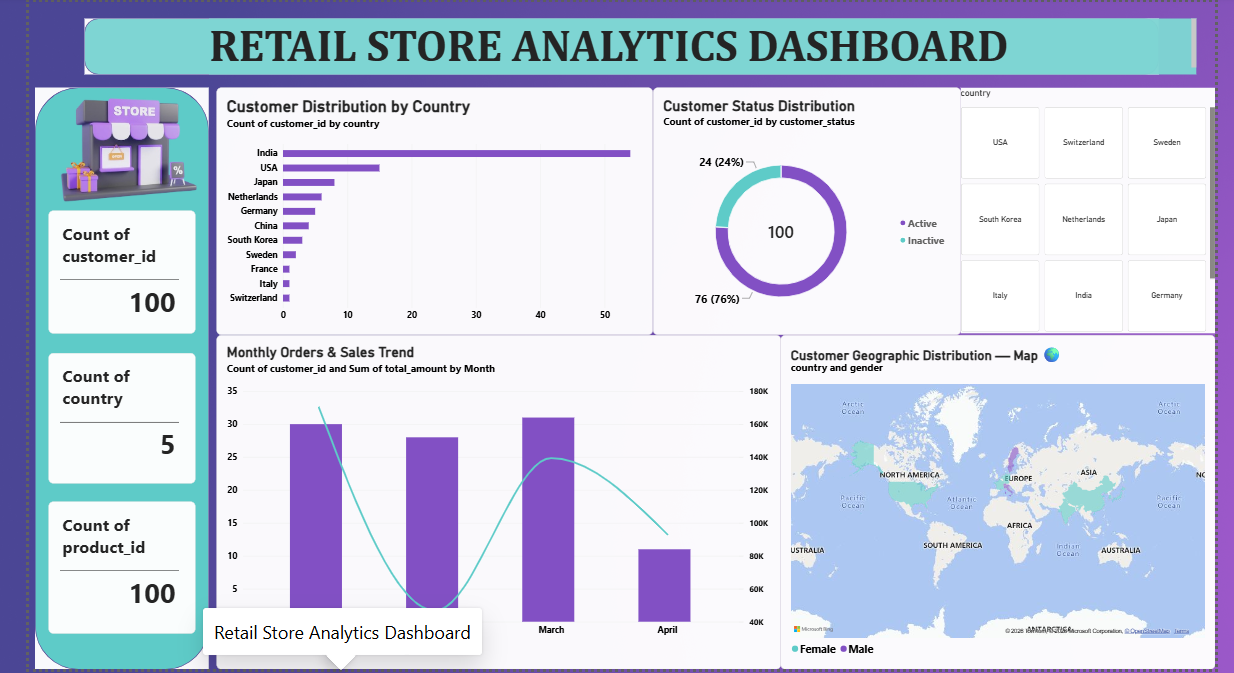

The dashboard page shown, as its layout file describes it:
{"tool":"powerbi","page":{"name":"Retail Store Analytics Dashboard","canvas":[1920,1080],"ordinal":0},"visuals":[{"type":"shape","box":[9.5,138.4,281.5,942.4],"z":0},{"type":"clusteredBarChart","title":"Customer Distribution by Country","fields":{"Category":["retail_store products.country"],"Y":["CountNonNull(retail_store products.customer_id)"]},"box":[303.6,138.4,706.8,400.8],"z":1000},{"type":"donutChart","title":"Customer Status Distribution","fields":{"Category":["retail_store customers.customer_status"],"Y":["CountNonNull(retail_store customers.customer_id)"]},"box":[1010.4,138.4,498.7,400.8],"z":2000},{"type":"lineClusteredColumnComboChart","title":"Monthly Orders & Sales Trend","fields":{"Category":["retail_store customers.signup_date.Variation.Date Hierarchy.Month"],"Y":["CountNonNull(retail_store customers.customer_id)"],"Y2":["Sum(retail_store orders.total_amount)"]},"box":[303,539.2,913.8,541.6],"z":3000},{"type":"filledMap","title":"Customer Geographic Distribution — Map 🌍","fields":{"Category":["retail_store products.country"],"Series":["retail_store customers.gender"]},"box":[1216.8,539.2,703.8,541.6],"z":4000},{"type":"shape","box":[90.7,26.2,1739.3,90.7],"z":5000},{"type":"textbox","box":[291.1,26.2,1598.6,90.7],"z":6000},{"type":"tableEx","fields":{"Values":["retail_store customers.customer_id"]},"box":[31.6,337.6,238,199.2],"z":7000},{"type":"tableEx","fields":{"Values":["retail_store customers.country"]},"box":[31.6,568.3,238,211.3],"z":8000},{"type":"tableEx","fields":{"Values":["CountNonNull(retail_store products.product_id)"]},"box":[31.6,808.8,238,213.7],"z":9000},{"type":"image","box":[9.7,97.2,298.7,267.2],"z":10000},{"type":"advancedSlicerVisual","fields":{"Values":["retail_store products.country"]},"box":[1508.3,138.4,412.9,398.3],"z":11000}]}

Visuals, with their boxes on the page's 1920x1080 design canvas (x1, y1, x2, y2). These are canvas units, not pixel positions in the 1234x673 screenshot, which may show the page scaled, cropped or inside an application window:
shape: BBox(10, 138, 291, 1081)
"Customer Distribution by Country" clusteredBarChart: BBox(304, 138, 1010, 539)
"Customer Status Distribution" donutChart: BBox(1010, 138, 1509, 539)
"Monthly Orders & Sales Trend" lineClusteredColumnComboChart: BBox(303, 539, 1217, 1081)
"Customer Geographic Distribution — Map 🌍" filledMap: BBox(1217, 539, 1921, 1081)
shape: BBox(91, 26, 1830, 117)
textbox: BBox(291, 26, 1890, 117)
tableEx - retail_store customers.customer_id: BBox(32, 338, 270, 537)
tableEx - retail_store customers.country: BBox(32, 568, 270, 780)
tableEx - CountNonNull(retail_store products.product_id): BBox(32, 809, 270, 1022)
image: BBox(10, 97, 308, 364)
advancedSlicerVisual - retail_store products.country: BBox(1508, 138, 1921, 537)
